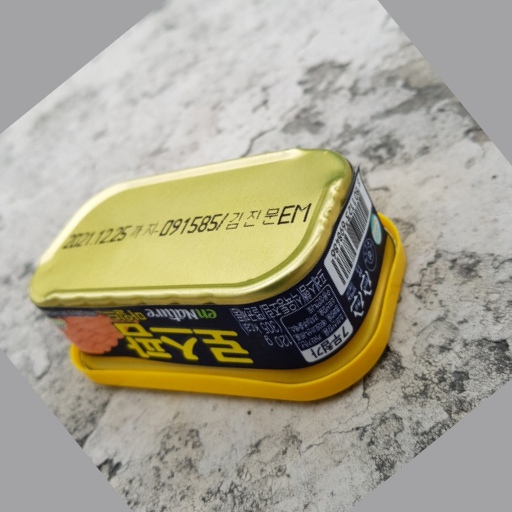Metal_2: (32, 151, 405, 406)
